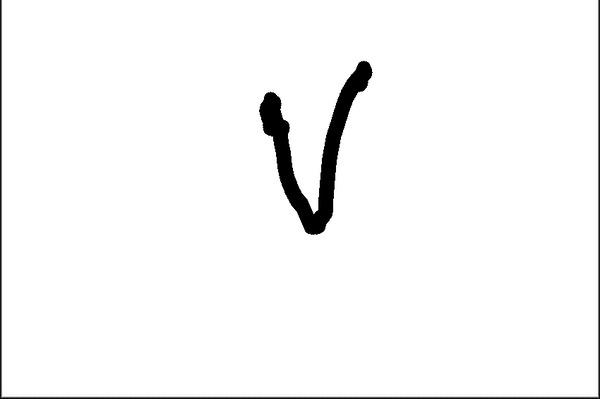V: (244, 50, 386, 247)
